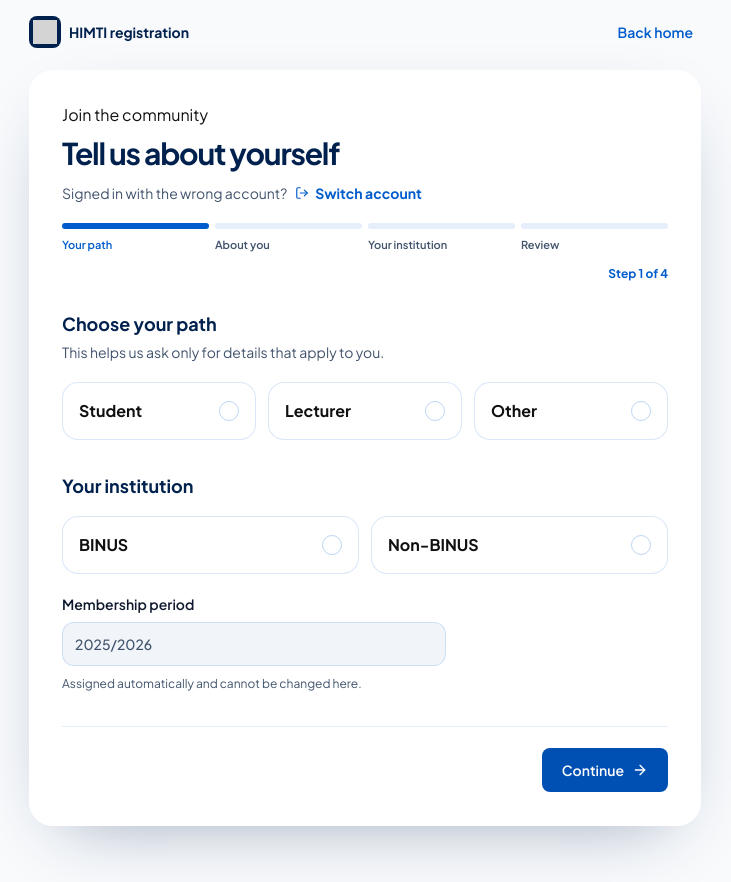
Test: keeps registration open when switching accounts fails
Click the button "Switch account" at (359, 193), box x1=295 y1=183 x2=422 y2=203
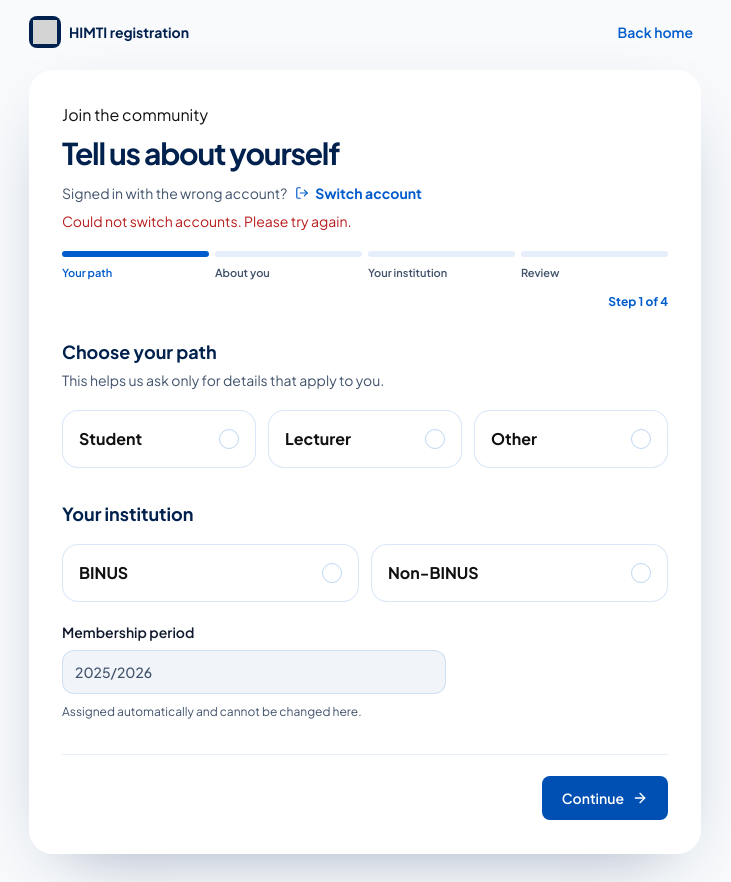
Expected: the heading "Tell us about yourself" is shown, x1=62 y1=134 x2=339 y2=172
Expected: the text "Could not switch accounts. Please try again." is shown, x1=62 y1=212 x2=351 y2=230
